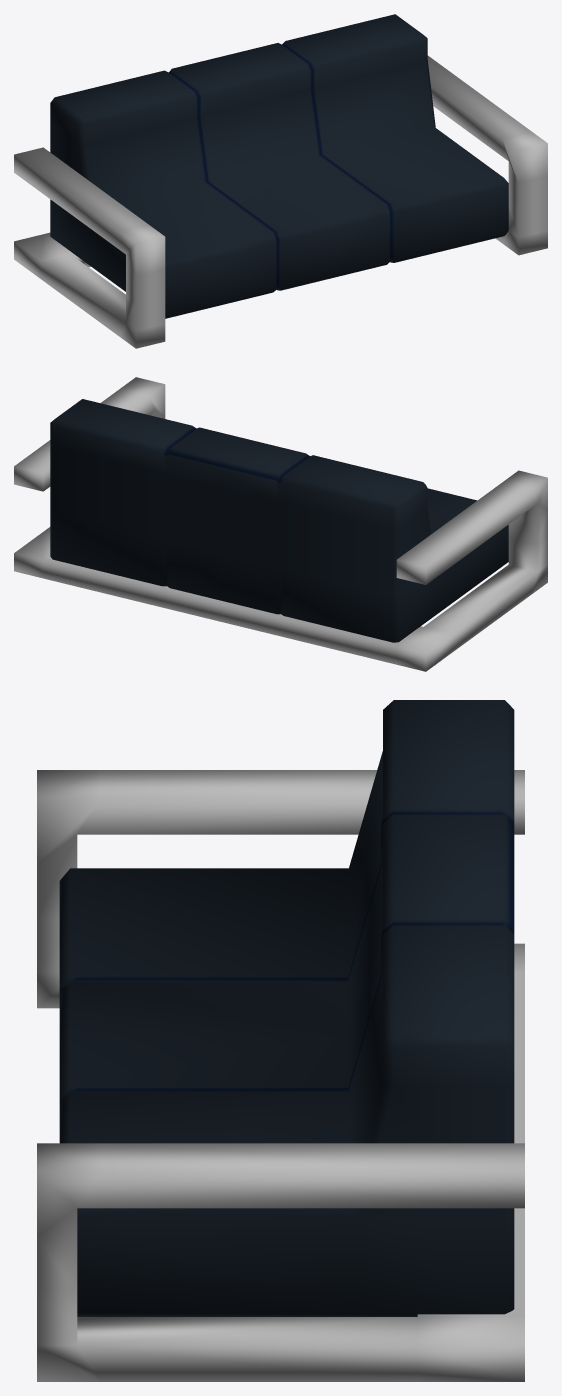
The model's file is Couch V2.fbx.
3 views of the same model, one above another, from view 1: azimuth 30°, elevation 25°; view 2: azimuth 150°, elevation 25°; view 3: azimuth 270°, elevation 25° (orthographic). The views are drawn at different scales.
Parts seen in each view (by area): view 1: Cube; view 2: Cube; view 3: Cube.
Boxes of the visible parts, x1,y1,x2,y2 form: Cube: (14,14,547,348); Cube: (14,377,547,671); Cube: (37,700,524,1381).
Bounding box in the file's own units: 70.14 × 35.98 × 25.57.
